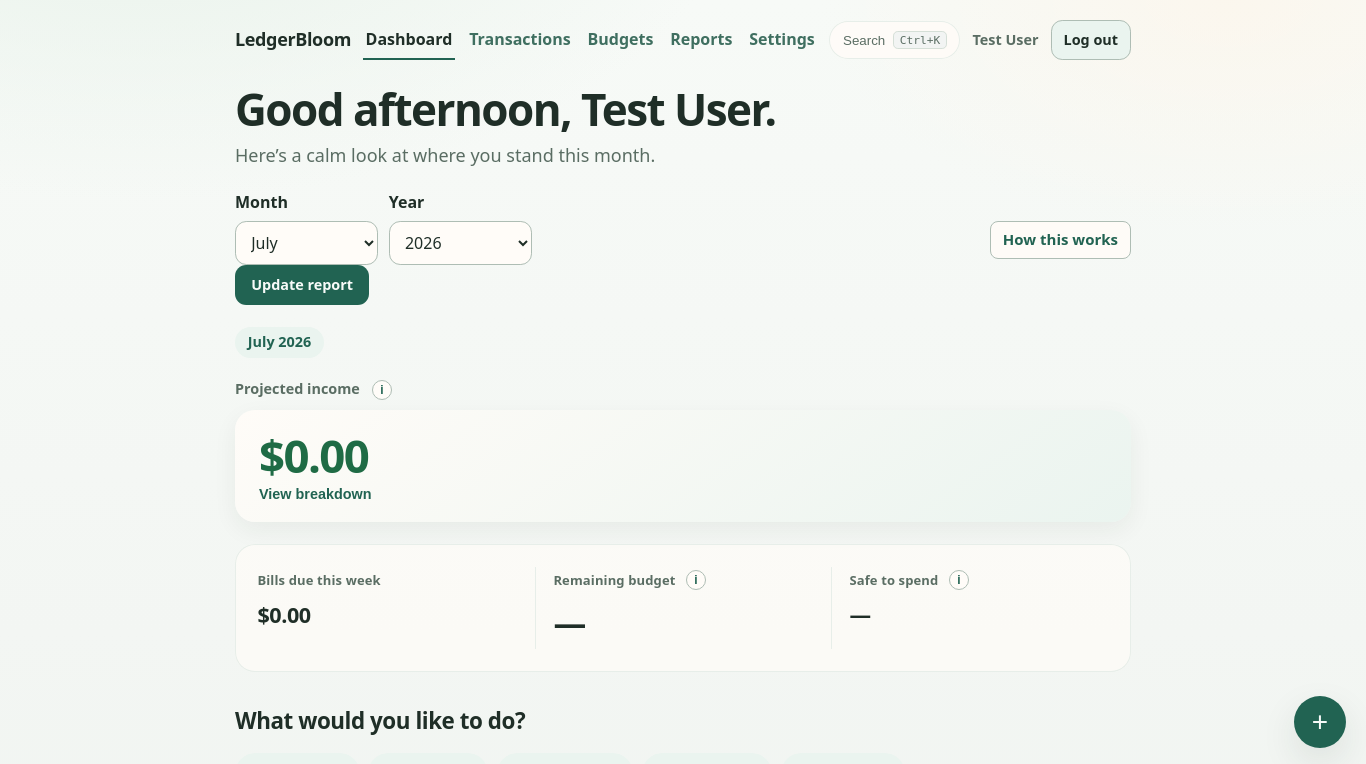
Test case: Category routes › navigates from Dashboard to Categories via Budgets
Check: the heading "Good afternoon, Test User." is shown, box [235, 79, 776, 139]
Click the link "Budgets": x=620, y=39 [588, 28, 653, 50]
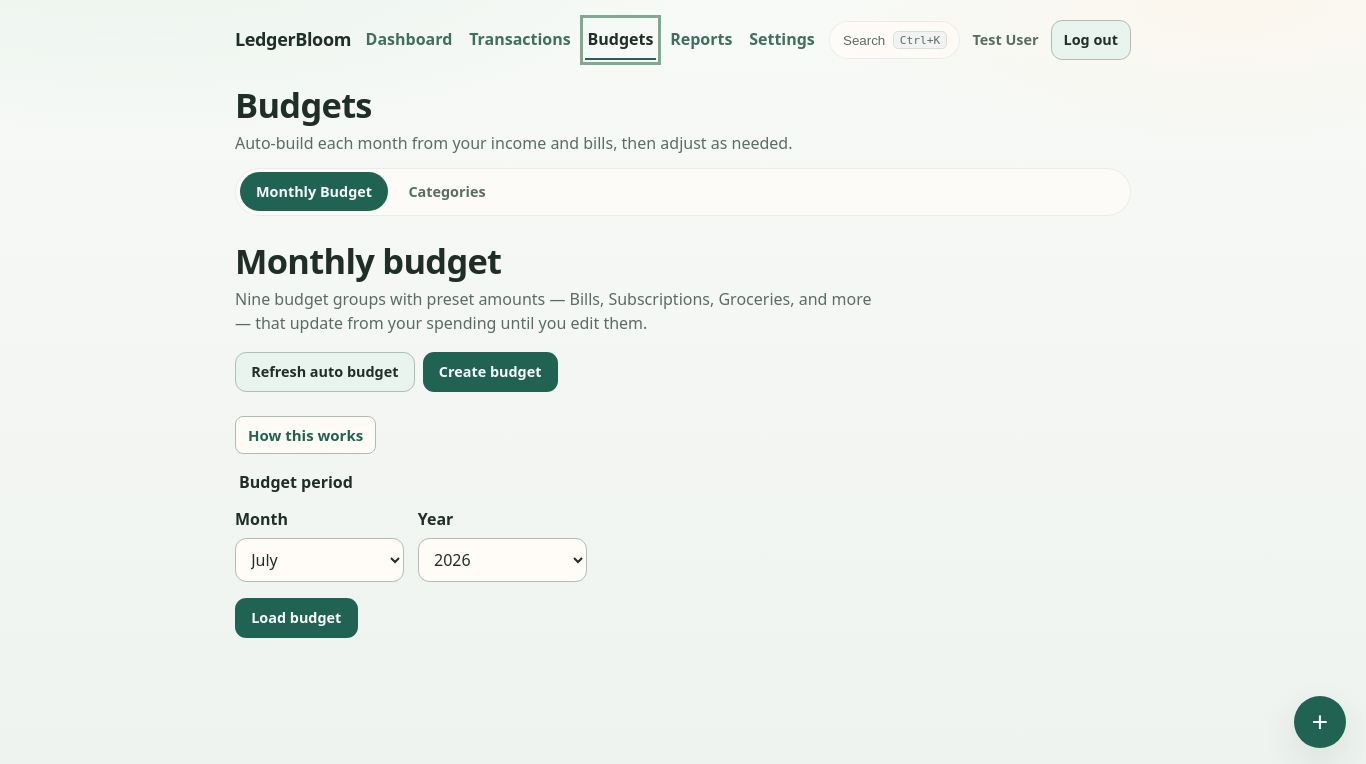
Click the link "Categories": x=447, y=191 [408, 182, 486, 200]
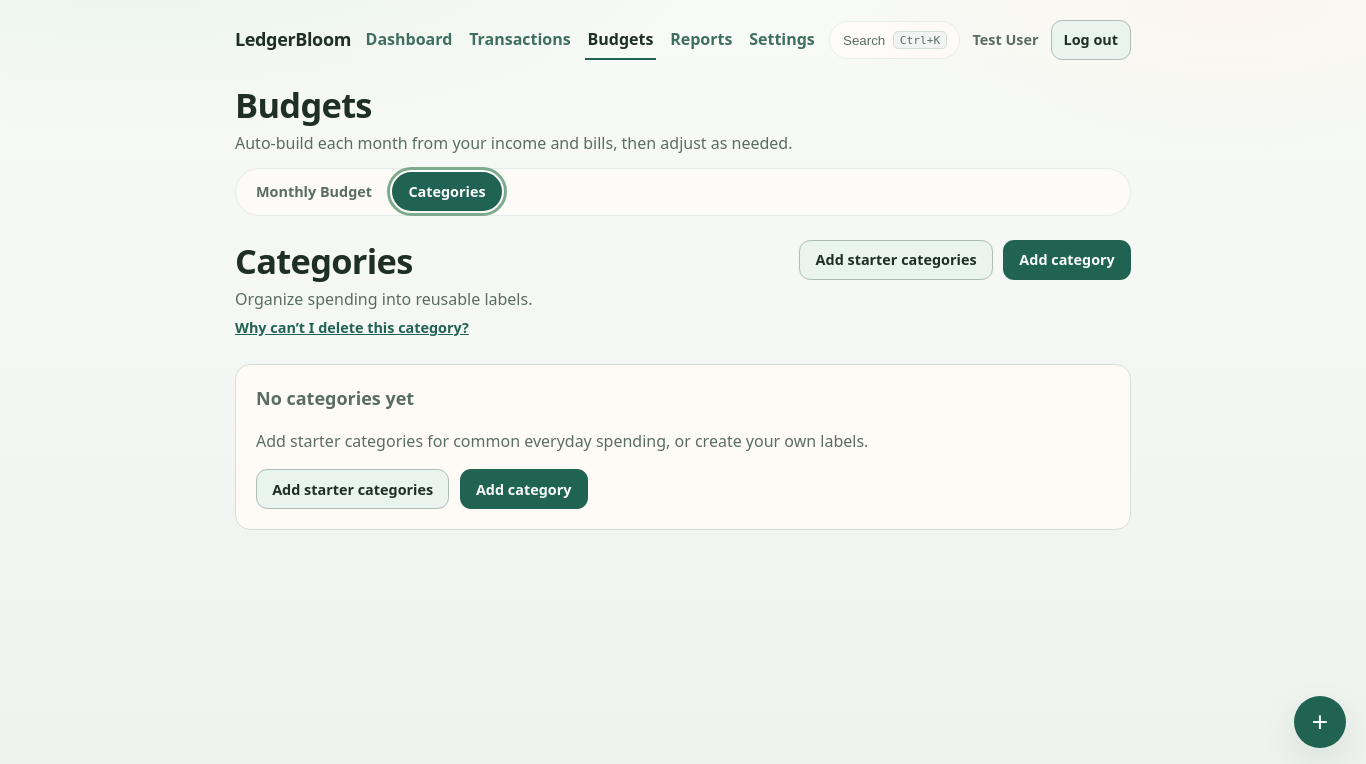
Check: the heading "Categories" is shown, box [235, 237, 413, 284]
